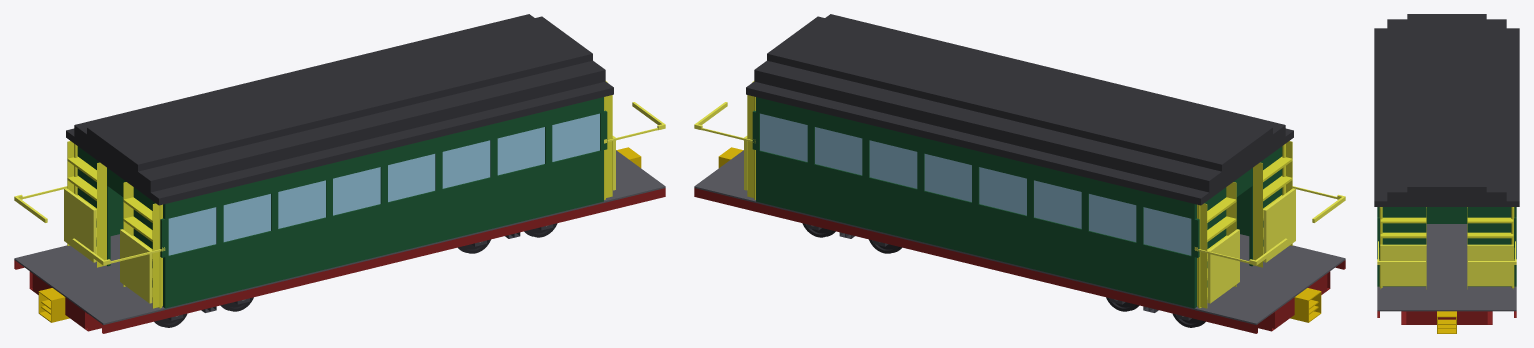
File: PF-C300_coach_regular.glb
3 renders of one model, left to right at view 1: azimuth 30°, elevation 25°; view 2: azimuth 150°, elevation 25°; view 3: azimuth 270°, elevation 25°, orthographic. The views are drawn at different scales.
Parts seen in each view (by area): view 1: 141 roof clerestory, 114 side wall lower (HSS2x2x1-8 frame + skin), 140 roof crown, 094 floor 1 in composite panel, 139 roof eave, 115 side wall upper - letter board, 087 side sill HSS6x2x3-16, 130 window (polycarbonate), 125 window (polycarbonate), 127 window (polycarbonate), 128 window (polycarbonate), 131 window (polycarbonate) (+13 smaller); view 2: 141 roof clerestory, 095 side wall lower (HSS2x2x1-8 frame + skin), 140 roof crown, 094 floor 1 in composite panel, 139 roof eave, 096 side wall upper - letter board, 081 side sill HSS6x2x3-16, 111 window (polycarbonate), 106 window (polycarbonate), 108 window (polycarbonate), 109 window (polycarbonate), 112 window (polycarbonate) (+13 smaller); view 3: 141 roof clerestory, 140 roof crown, 094 floor 1 in composite panel, 139 roof eave, 174 S1 stowed handrails (folded flat), 192 S1 stowed handrails (folded flat), 137 end wall (32 in centred door), 136 end wall (32 in centred door), 003 end sill HSS12x4x1-4, 138 end wall over door, 172 S1 stair stowed - tread, 173 S1 stair stowed - tread (+7 smaller).
Part boxes in pixels (box(x1,y1,x2,y2)): 141 roof clerestory: box(87, 16, 592, 171); 114 side wall lower (HSS2x2x1-8 frame + skin): box(163, 150, 603, 308); 140 roof crown: box(74, 14, 605, 192); 094 floor 1 in composite panel: box(14, 150, 665, 324); 139 roof eave: box(66, 81, 613, 205); 115 side wall upper - letter board: box(163, 97, 603, 219); 087 side sill HSS6x2x3-16: box(102, 188, 665, 333); 130 window (polycarbonate): box(442, 140, 490, 188); 125 window (polycarbonate): box(168, 207, 216, 255); 127 window (polycarbonate): box(278, 180, 325, 228); 128 window (polycarbonate): box(333, 167, 380, 215); 131 window (polycarbonate): box(497, 127, 544, 175); 141 roof clerestory: box(767, 16, 1272, 171); 095 side wall lower (HSS2x2x1-8 frame + skin): box(756, 150, 1195, 308); 140 roof crown: box(754, 14, 1285, 192); 094 floor 1 in composite panel: box(694, 150, 1345, 324); 139 roof eave: box(746, 81, 1293, 205); 096 side wall upper - letter board: box(756, 97, 1195, 219); 081 side sill HSS6x2x3-16: box(694, 188, 1257, 333); 111 window (polycarbonate): box(869, 140, 917, 188); 106 window (polycarbonate): box(1143, 207, 1191, 255); 108 window (polycarbonate): box(1034, 180, 1081, 228); 109 window (polycarbonate): box(979, 167, 1026, 215); 112 window (polycarbonate): box(815, 127, 862, 175); 141 roof clerestory: box(1407, 14, 1486, 192); 140 roof crown: box(1387, 19, 1506, 201); 094 floor 1 in composite panel: box(1377, 224, 1516, 311); 139 roof eave: box(1374, 28, 1519, 206); 174 S1 stowed handrails (folded flat): box(1467, 244, 1513, 286); 192 S1 stowed handrails (folded flat): box(1380, 244, 1426, 286); 137 end wall (32 in centred door): box(1377, 207, 1426, 286); 136 end wall (32 in centred door): box(1467, 207, 1516, 286); 003 end sill HSS12x4x1-4: box(1406, 311, 1487, 324); 138 end wall over door: box(1426, 207, 1467, 223); 172 S1 stair stowed - tread: box(1467, 232, 1513, 238); 173 S1 stair stowed - tread: box(1467, 217, 1513, 223).
Bounding box in the file's own units: 10660 × 3114 × 2914.
